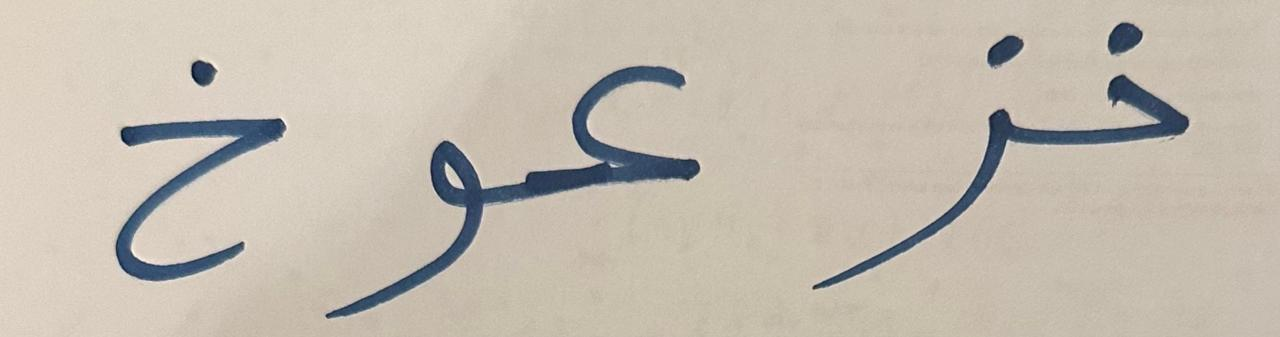ain: (501, 4, 766, 235)
hamza: (771, 7, 1042, 309)
lam: (69, 3, 306, 313), (1045, 0, 1235, 198)
yeh: (310, 81, 498, 333)
